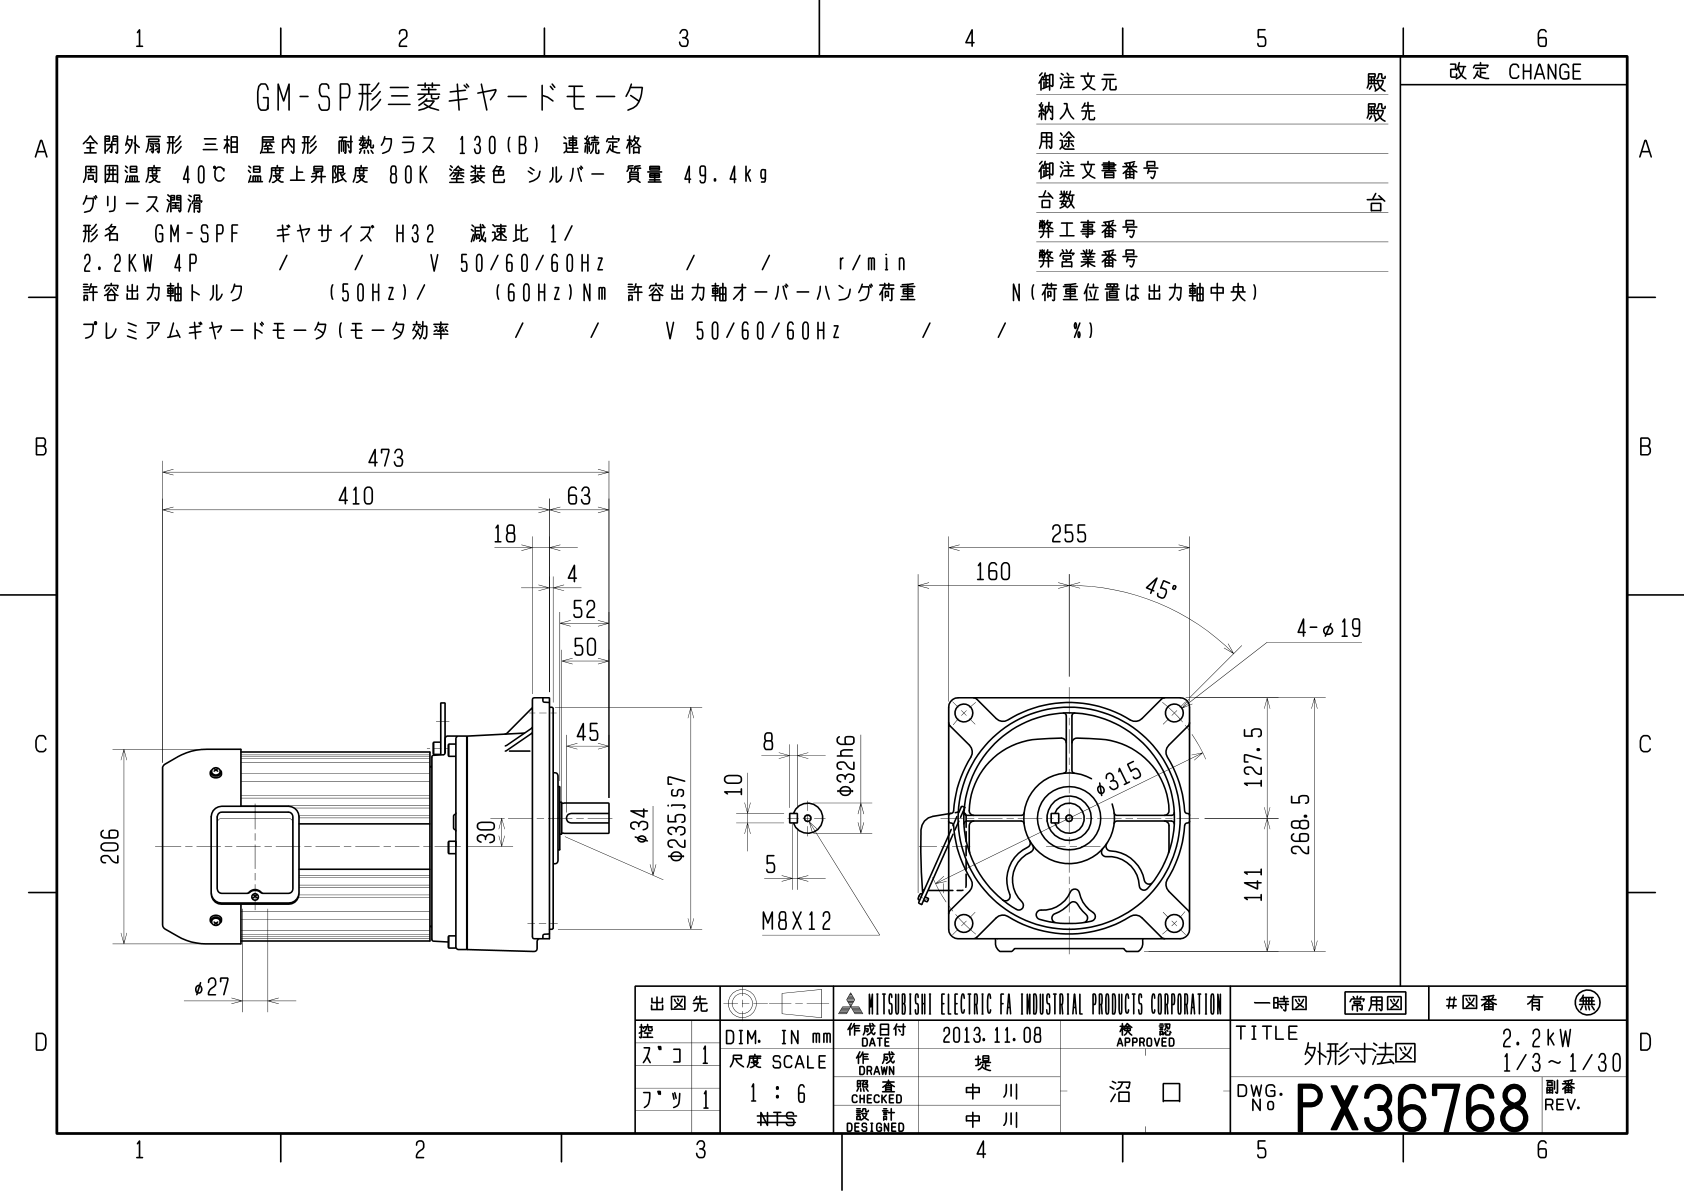GM_SP_屋内_三相_フランジ: (85, 421, 1383, 967)
